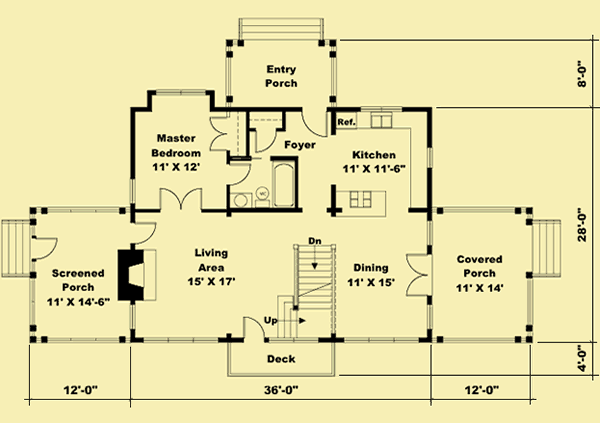door: (403, 253, 433, 299), (157, 186, 206, 214), (299, 108, 330, 137), (208, 115, 229, 153), (226, 160, 251, 186), (240, 313, 263, 341), (132, 220, 157, 245), (253, 129, 277, 154), (35, 237, 59, 261)
large_sink: (254, 183, 271, 209)
small_sink: (228, 191, 253, 208)
stairs: (275, 241, 338, 336), (235, 14, 326, 45), (1, 220, 36, 282), (530, 216, 563, 279)
tub: (272, 157, 295, 208)
windows: (47, 335, 126, 346), (338, 335, 419, 345), (141, 335, 221, 345), (152, 88, 207, 96), (128, 173, 138, 207), (425, 220, 433, 248), (425, 148, 433, 171)
